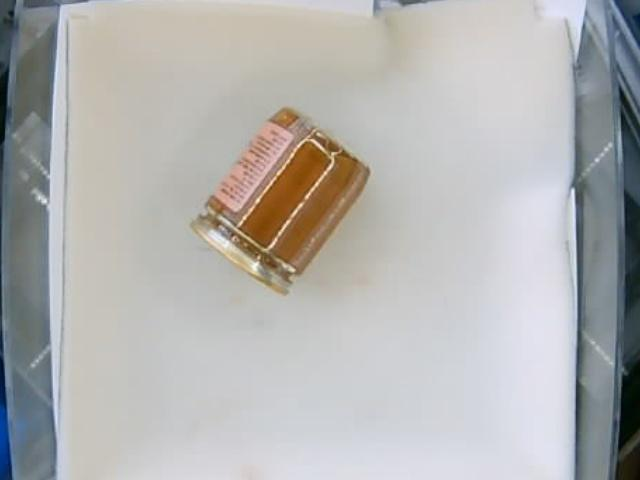Bottle: (188, 108, 369, 297)
